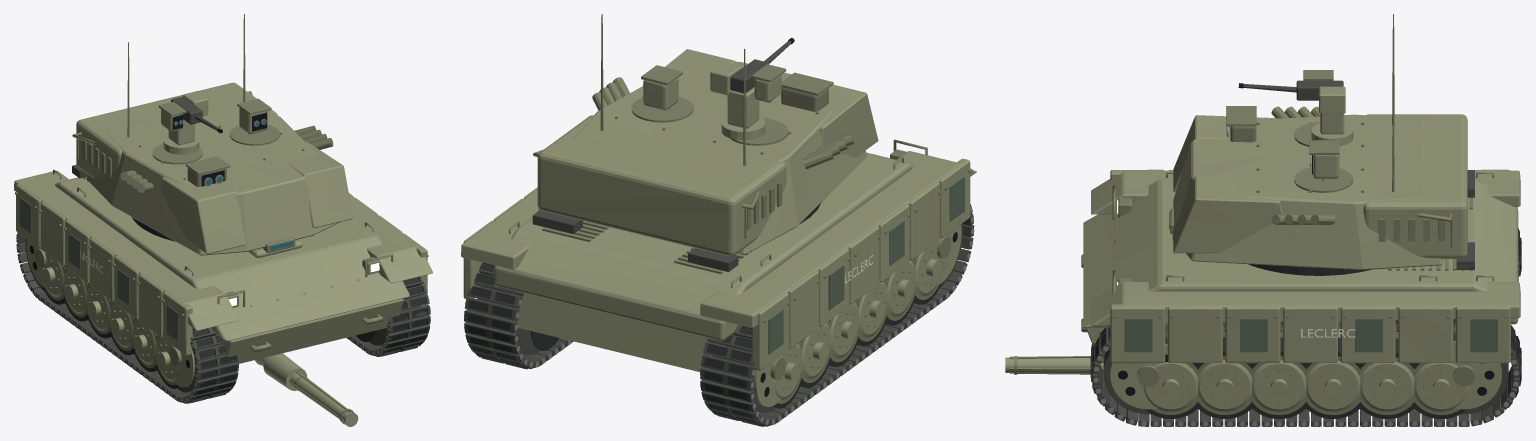
The model's file is france.glb.
3 views of the same model, side by side, from view 1: azimuth 30°, elevation 25°; view 2: azimuth 150°, elevation 25°; view 3: azimuth 270°, elevation 25° (orthographic). The views are drawn at different scales.
Parts seen in each view (by area): view 1: body_material_1, turret_material_2, tracks_material_1, tracks_material_3, turret_material_3, tracks_material_2, cannon_material_2, body_material_5, tracks_material_4, body_material_2, tracks_material_0, turret_material_0 (+2 smaller); view 2: body_material_1, turret_material_2, tracks_material_1, tracks_material_3, turret_material_3, tracks_material_2, body_material_5, tracks_material_4, body_material_2, body_material_0, tracks_material_0, turret_material_0; view 3: body_material_1, turret_material_2, tracks_material_3, tracks_material_1, turret_material_3, body_material_5, tracks_material_4, tracks_material_2, body_material_2, tracks_material_0, cannon_material_2, turret_material_0 (+3 smaller).
Part boxes in pixels (x1,y1,x2,y2): body_material_1: (14, 170, 432, 363); turret_material_2: (76, 82, 352, 255); tracks_material_1: (16, 232, 430, 402); tracks_material_3: (26, 239, 194, 387); turret_material_3: (72, 14, 333, 192); tracks_material_2: (43, 265, 428, 403); cannon_material_2: (257, 353, 357, 425); body_material_5: (19, 197, 178, 341); tracks_material_4: (35, 248, 181, 384); body_material_2: (15, 169, 428, 352); tracks_material_0: (16, 236, 430, 402); turret_material_0: (171, 96, 218, 130); body_material_1: (461, 151, 976, 371); turret_material_2: (537, 49, 878, 256); tracks_material_1: (464, 204, 974, 425); tracks_material_3: (754, 224, 961, 406); turret_material_3: (533, 14, 854, 238); tracks_material_2: (467, 258, 941, 426); body_material_5: (768, 176, 964, 354); tracks_material_4: (770, 236, 951, 403); body_material_2: (509, 139, 971, 322); body_material_0: (532, 210, 738, 271); tracks_material_0: (464, 207, 974, 425); turret_material_0: (730, 40, 791, 93); body_material_1: (1083, 169, 1520, 363); turret_material_2: (1173, 86, 1467, 269); tracks_material_3: (1110, 340, 1501, 411); tracks_material_1: (1092, 252, 1519, 426); turret_material_3: (1226, 14, 1452, 247); body_material_5: (1124, 319, 1497, 352); tracks_material_4: (1137, 356, 1474, 414); tracks_material_2: (1090, 228, 1521, 426); body_material_2: (1081, 172, 1507, 332); tracks_material_0: (1093, 262, 1518, 426); cannon_material_2: (1005, 357, 1103, 373); turret_material_0: (1243, 80, 1343, 100).
Size of the model in its own units: 3.82 by 4.26 by 5.92.
